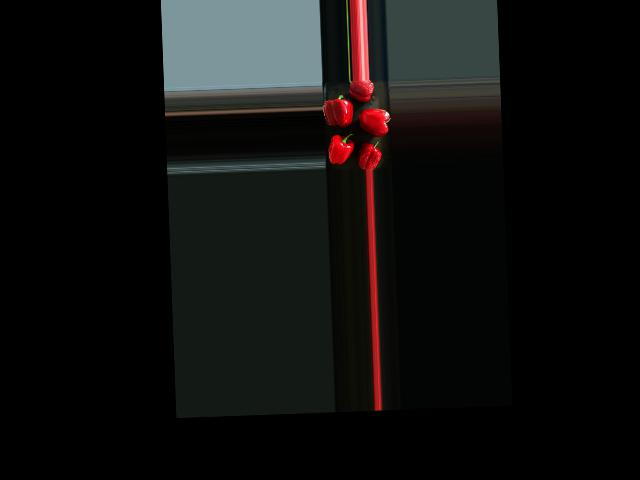bell_pepper: (347, 80, 379, 103)
